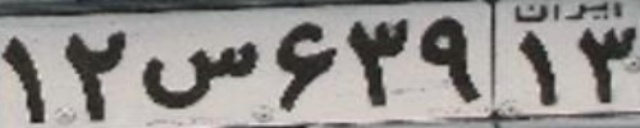1: (0, 35, 53, 123), (516, 30, 557, 104)
2: (63, 31, 125, 122)
3: (346, 17, 406, 106), (575, 24, 637, 103)
6: (271, 20, 335, 110)
9: (420, 15, 480, 104)
sin: (137, 40, 258, 110)
